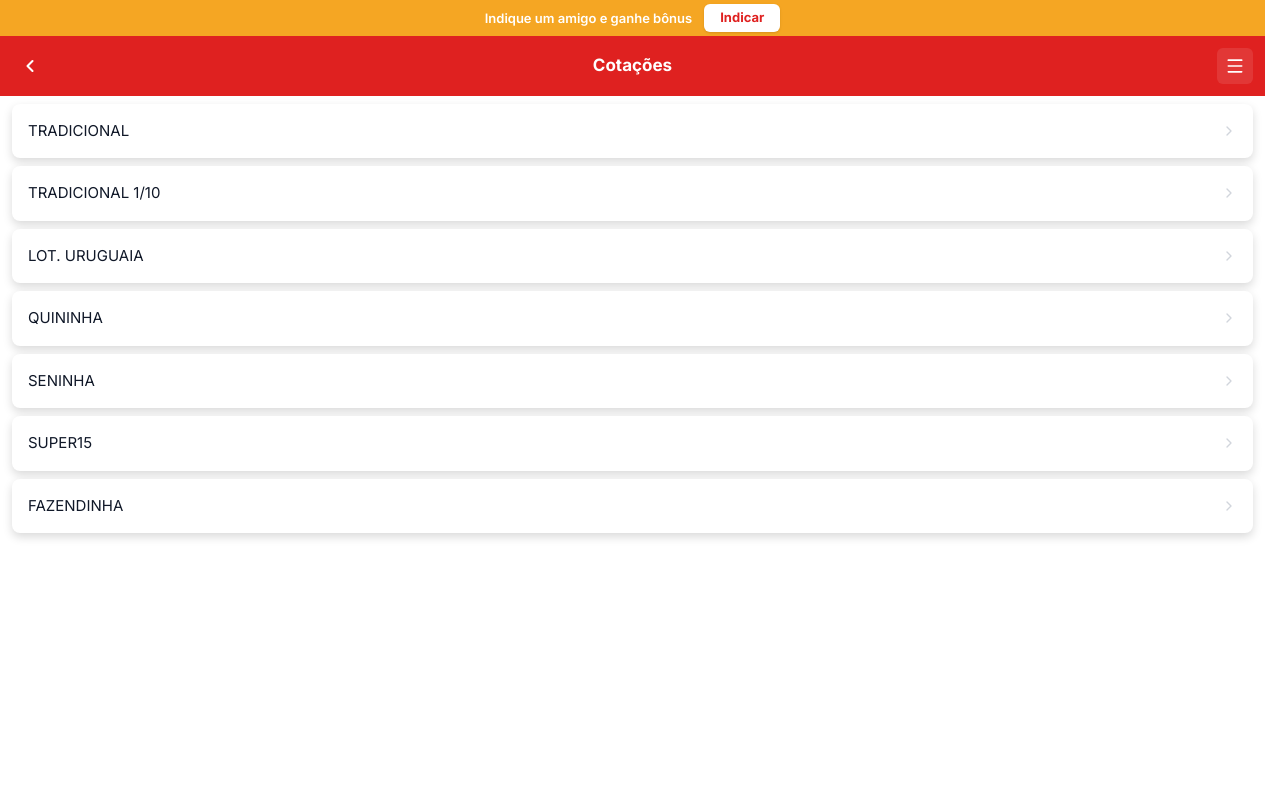
Relatórios > Cotações › Fazendinha: um prêmio por modalidade e valor (CT-100 desligado mostra R$ 0,00)
This screenshot has width=1280, height=800.
Click the button "FAZENDINHA".
click(76, 505)  # box left=12, top=478, right=1253, bottom=533
(page scrolled)
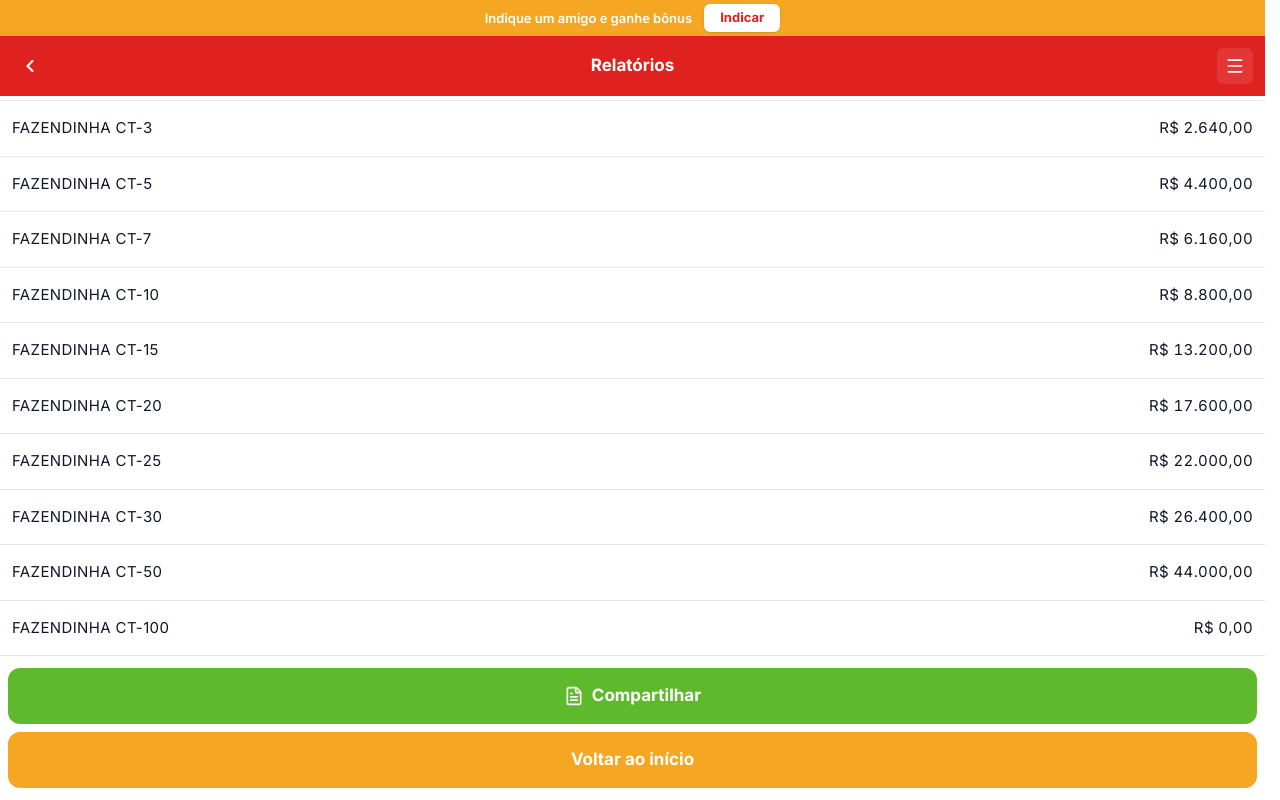
Result: the row "FAZENDINHA CT-100" shows "R$ 0,00" at left=1194, top=618, right=1253, bottom=636
